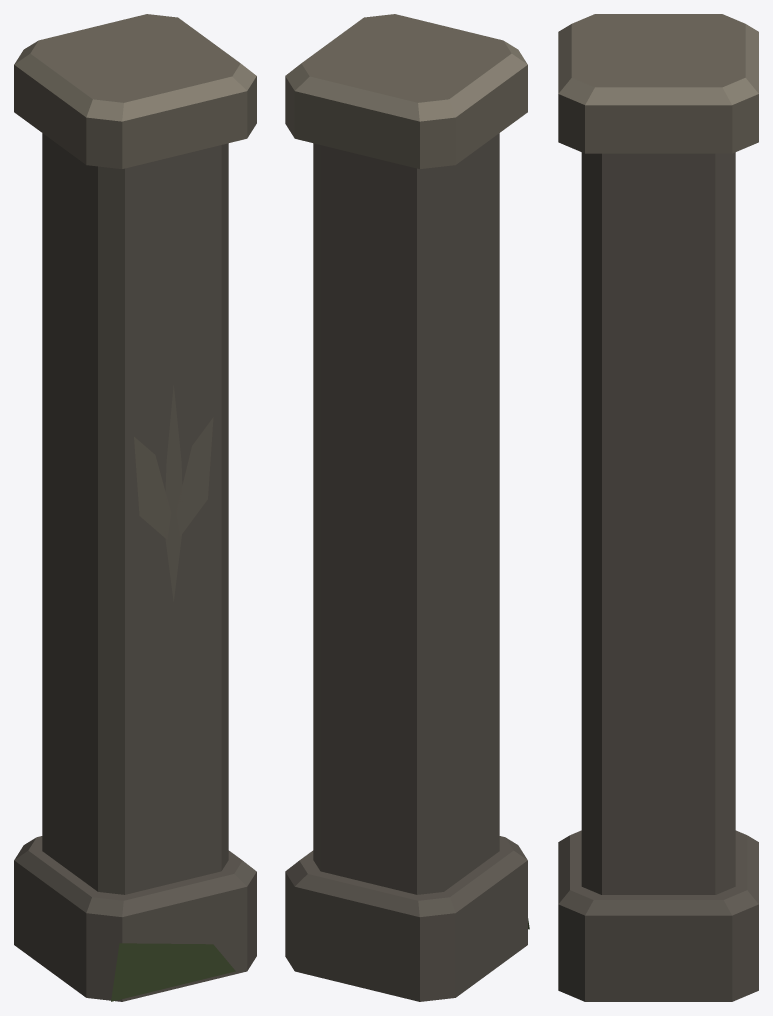
File: wall_garden_corner.glb
The picture shows the model from 3 angles, left to right: view 1: azimuth 30°, elevation 25°; view 2: azimuth 150°, elevation 25°; view 3: azimuth 270°, elevation 25°; orthographic projection.
Parts seen in each view (by area): view 1: Body_wall_garden_corner.001; view 2: Body_wall_garden_corner.001; view 3: Body_wall_garden_corner.001.
Part boxes in pixels (x1,y1,x2,y2): Body_wall_garden_corner.001: (14, 14, 256, 1001); Body_wall_garden_corner.001: (285, 14, 529, 1001); Body_wall_garden_corner.001: (558, 14, 758, 1001).
Size of the model in its own units: 0.6 by 3 by 0.601.
